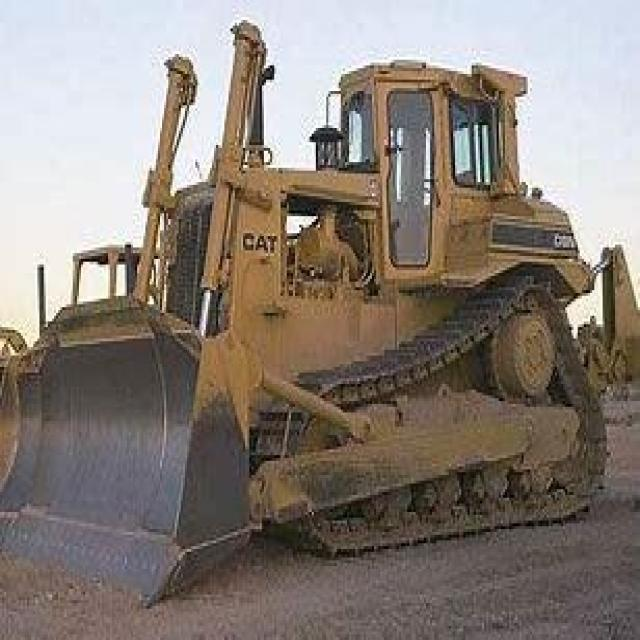buldozerpayloadergrader: (9, 11, 622, 612)
